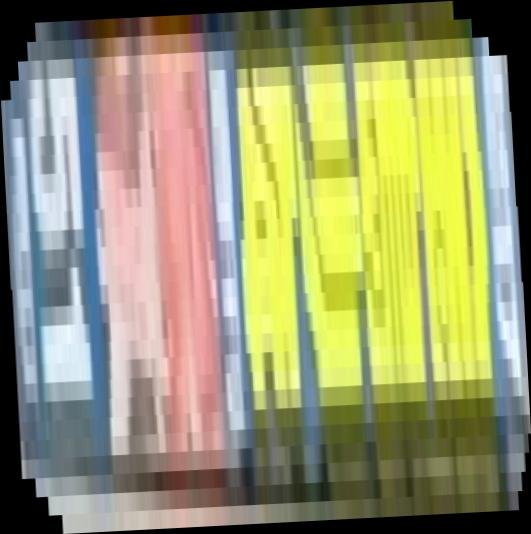flat: (1, 1, 531, 534)
